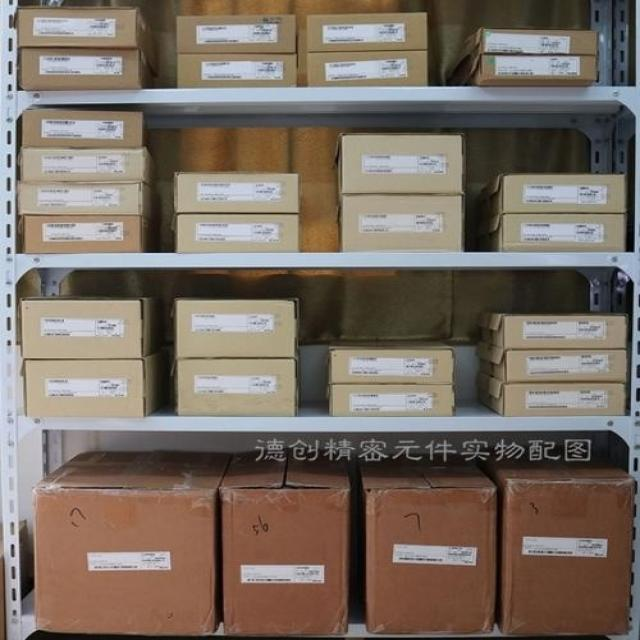box: (34, 449, 233, 634), (481, 450, 636, 634), (359, 453, 497, 634), (220, 449, 350, 635), (23, 345, 171, 417), (333, 135, 466, 214), (20, 298, 166, 359), (16, 7, 161, 68), (444, 30, 599, 85), (335, 195, 465, 252), (475, 175, 626, 222), (178, 300, 296, 360), (178, 359, 298, 416), (24, 107, 158, 156), (330, 336, 457, 386), (474, 375, 628, 415), (475, 343, 628, 383), (19, 180, 162, 222), (472, 213, 625, 252), (476, 313, 625, 352), (16, 47, 157, 88), (21, 215, 161, 252), (20, 148, 158, 185), (174, 174, 302, 213), (449, 55, 598, 88), (308, 12, 427, 53), (176, 215, 299, 253), (177, 15, 299, 53), (330, 382, 455, 417), (309, 52, 427, 88), (177, 53, 299, 87)
